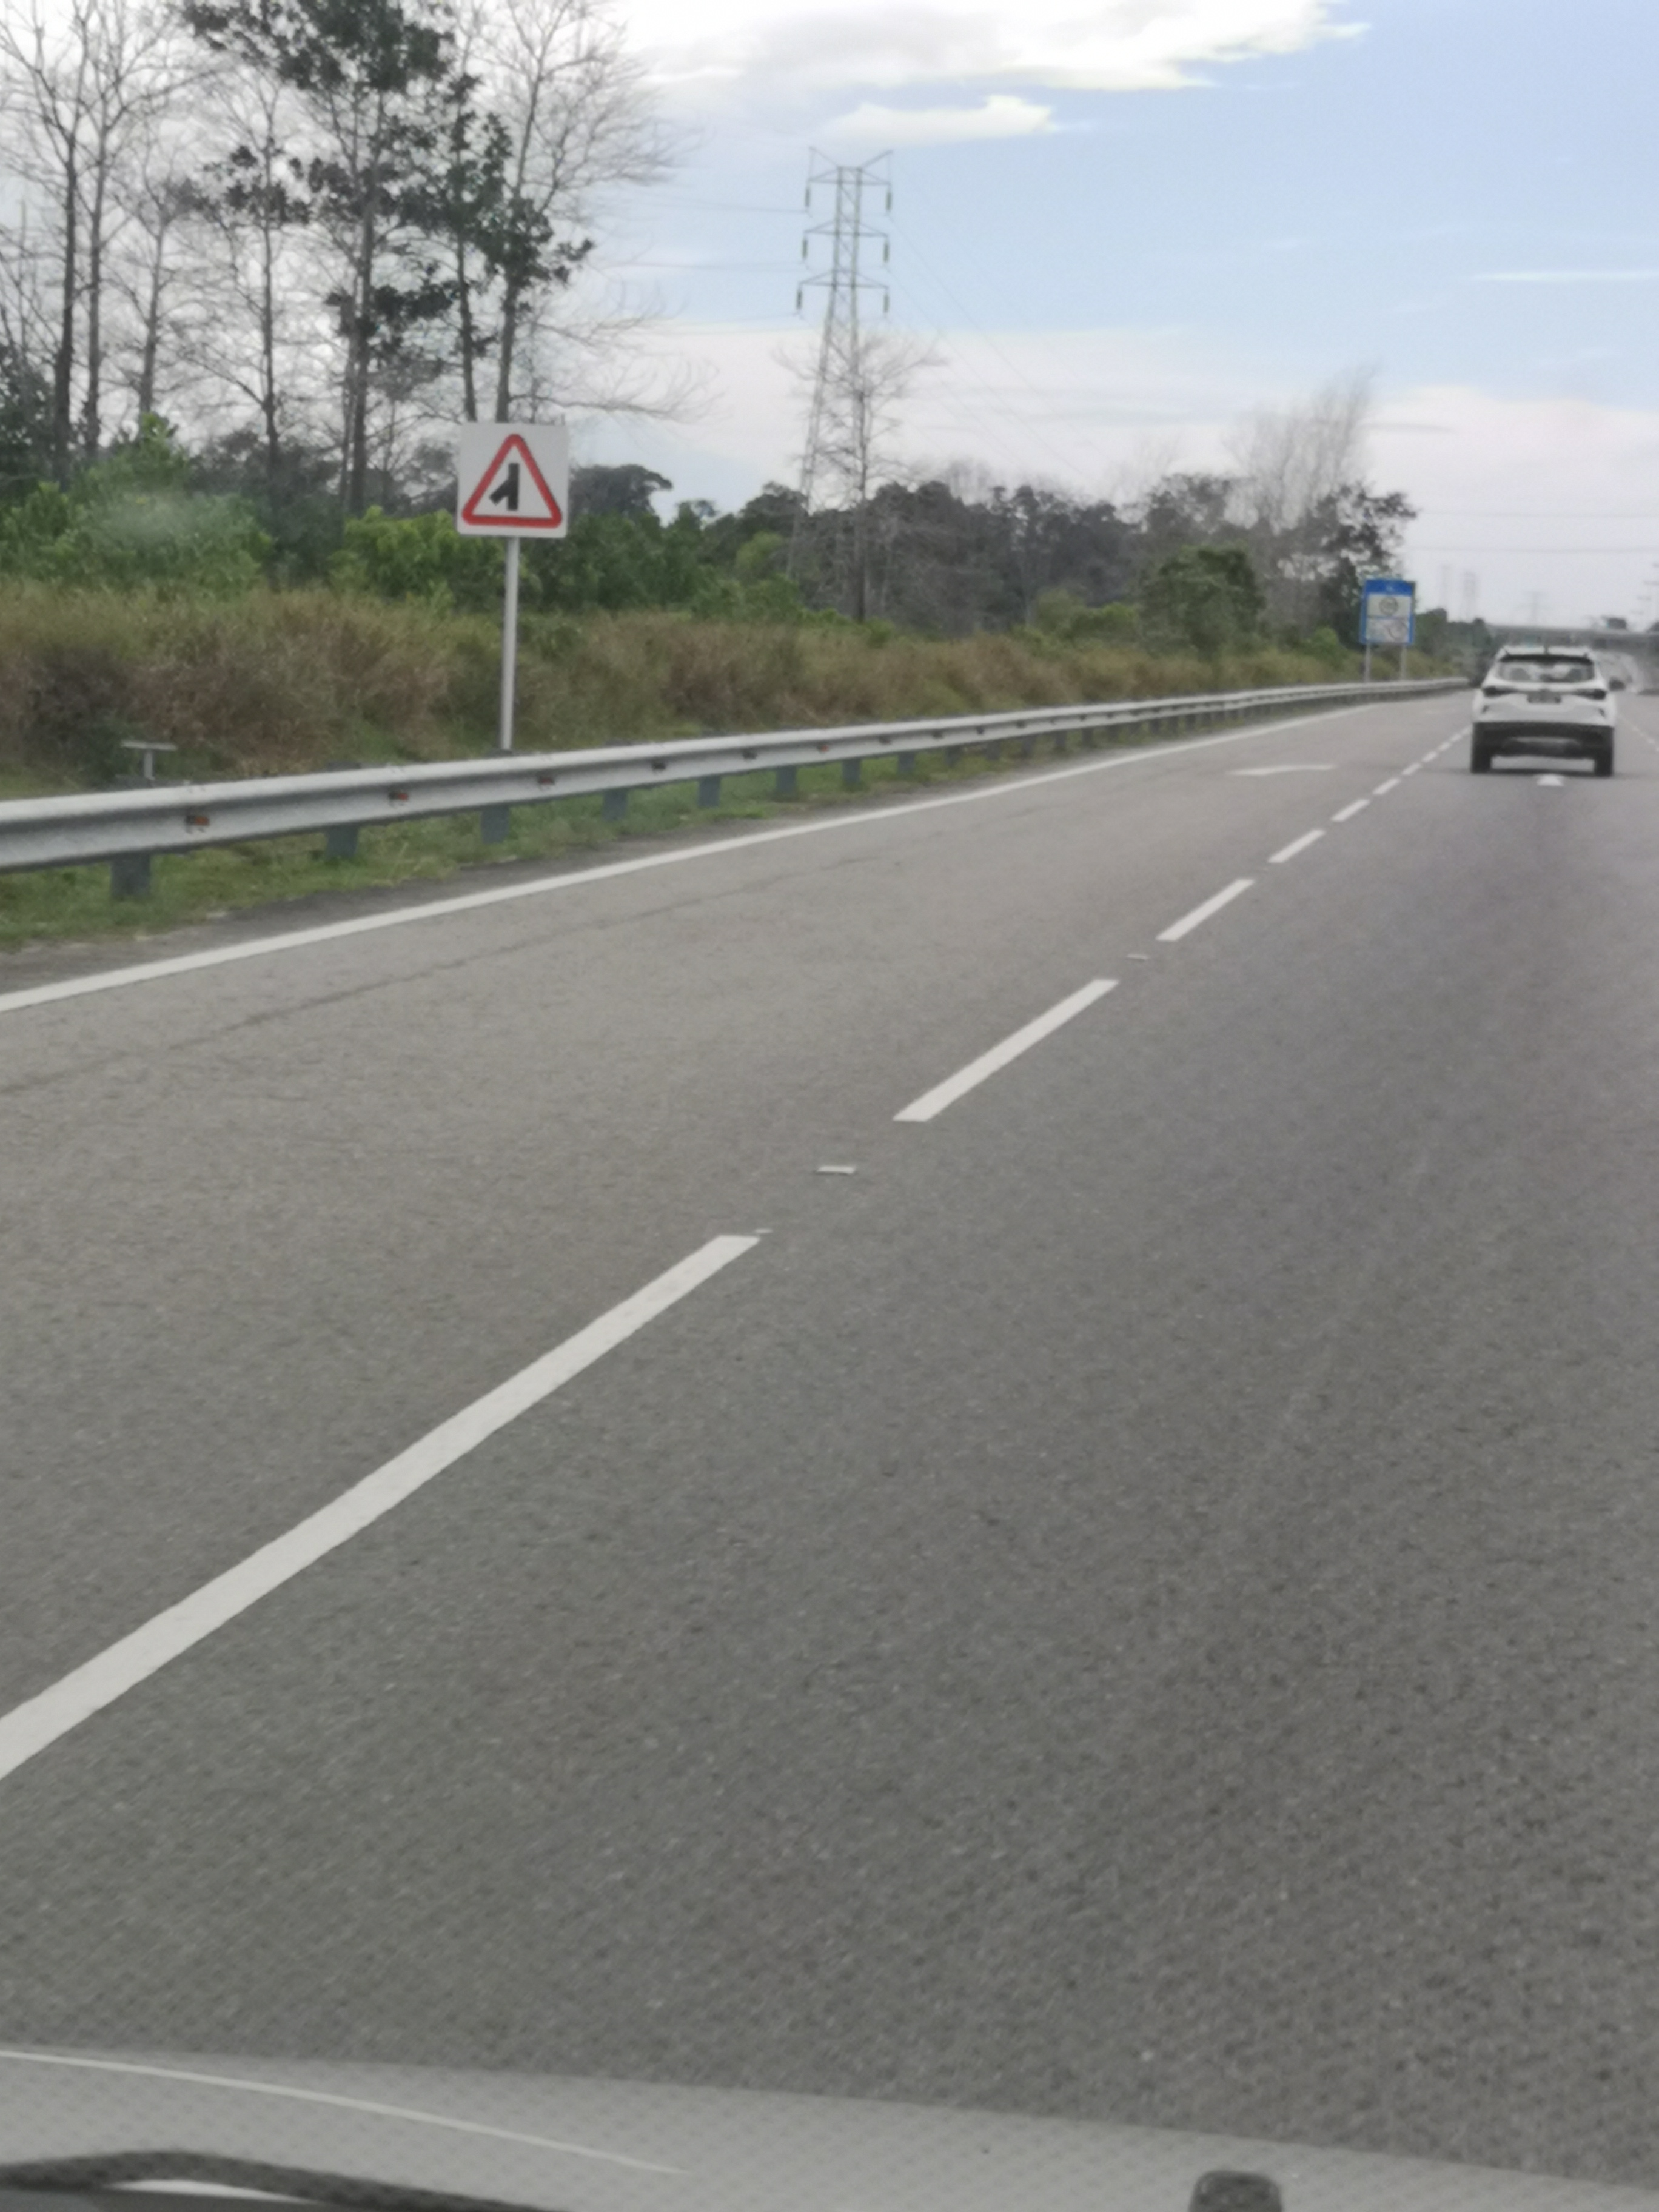merging traffic from the left: (451, 418, 575, 543)
